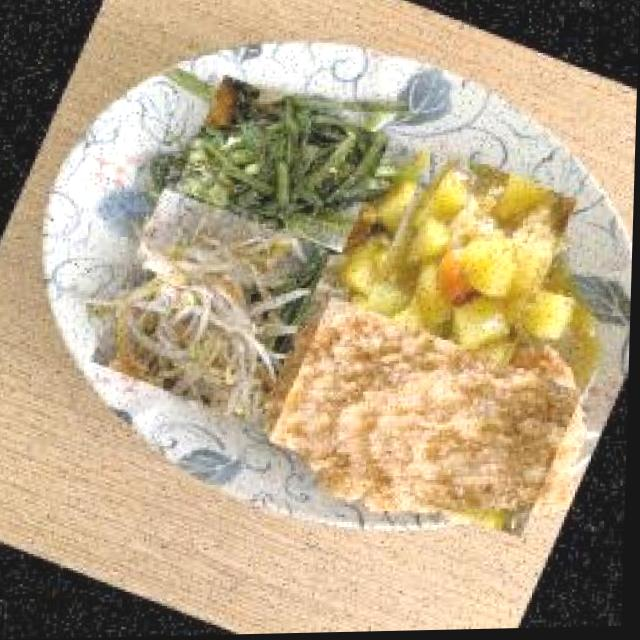curry: (359, 148, 584, 372)
fried_chicken: (270, 292, 589, 545)
mung_bean_sprouts: (90, 187, 334, 431)
water_spinach: (174, 71, 393, 258)
